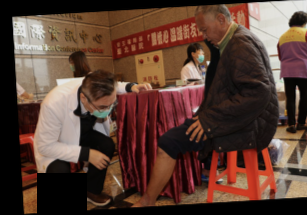with_mask: (87, 97, 118, 119), (195, 49, 205, 64), (69, 60, 78, 73)
without_mask: (197, 24, 224, 47)
